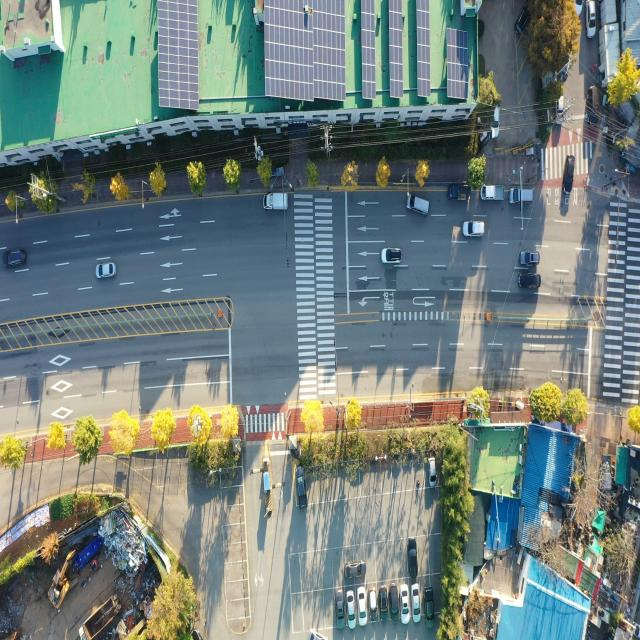car: (405, 192, 433, 222), (560, 153, 576, 195), (508, 185, 534, 209), (296, 462, 309, 509), (516, 6, 534, 39), (422, 586, 434, 633), (95, 259, 118, 283), (3, 248, 26, 272), (412, 579, 423, 626), (585, 0, 598, 39), (335, 584, 346, 630), (517, 270, 541, 290), (406, 536, 418, 576), (357, 584, 367, 630), (367, 581, 378, 622), (462, 219, 484, 239), (490, 94, 500, 138), (346, 586, 356, 630), (390, 582, 400, 624), (401, 584, 411, 625), (380, 248, 402, 266), (519, 248, 541, 266), (344, 562, 366, 580), (379, 581, 388, 622), (428, 456, 438, 491), (556, 86, 564, 125)
medium_truck: (78, 593, 124, 640)
small_truck: (261, 190, 291, 214), (480, 182, 505, 206), (446, 182, 472, 204), (586, 82, 598, 126)
